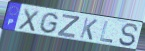G: (37, 12, 60, 35)
K: (79, 17, 99, 41)
L: (98, 20, 114, 44)
S: (118, 22, 139, 47)
X: (17, 8, 41, 33)
Z: (56, 14, 81, 39)
